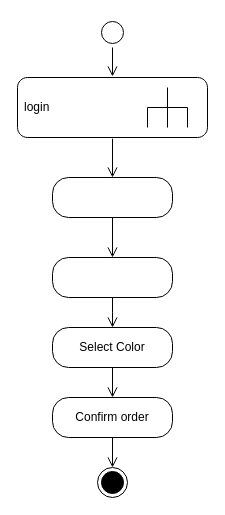
The diagram is 225 pixels wide and 515 high, and some of its shapes have lost their labels. Each missing label, with the centre of its shape:
Choose a car: (112,277)
List all cars: (112,197)
